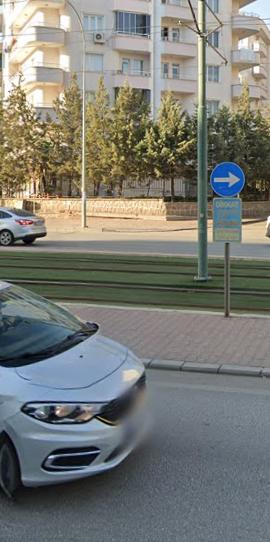turnright: (211, 163, 246, 196)
